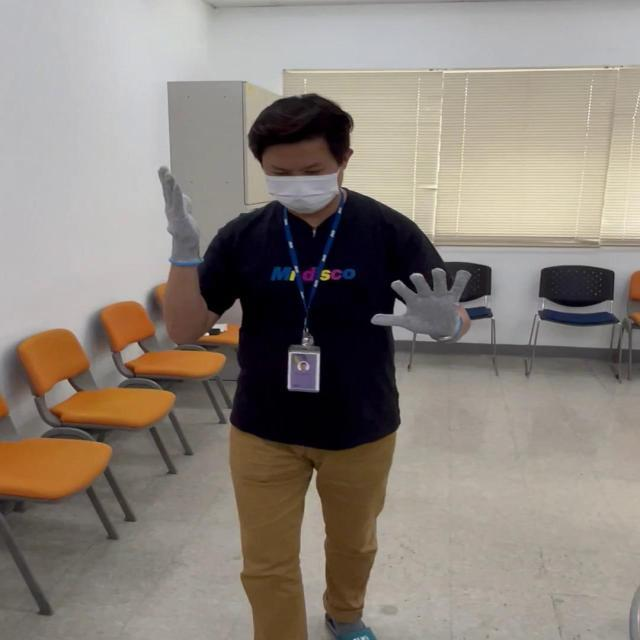gloved_hand: (357, 271, 474, 338), (160, 165, 213, 264)
